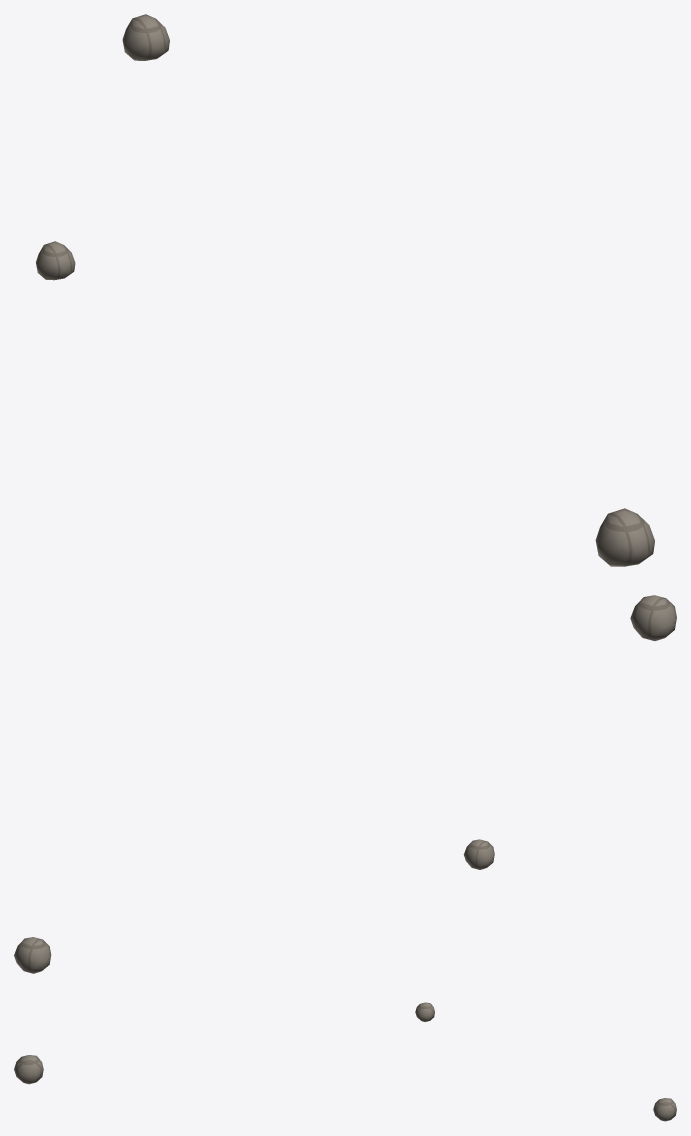
Rendered from ISL-L_LOD0_Reef.fbx.
3 views of the same model, one above another, from view 1: azimuth 30°, elevation 25°; view 2: azimuth 150°, elevation 25°; view 3: azimuth 270°, elevation 25° (orthographic). The views are drawn at different scales.
Parts seen in each view (by area): view 1: ISL-L_LOD0_Reef; view 2: ISL-L_LOD0_Reef; view 3: ISL-L_LOD0_Reef.
Boxes of the visible parts, bbox=[...] form: ISL-L_LOD0_Reef: bbox=[36, 14, 654, 566]; ISL-L_LOD0_Reef: bbox=[14, 595, 676, 973]; ISL-L_LOD0_Reef: bbox=[14, 1002, 676, 1121].
Bounding box in the file's own units: 42.83 × 134 × 8.26.
